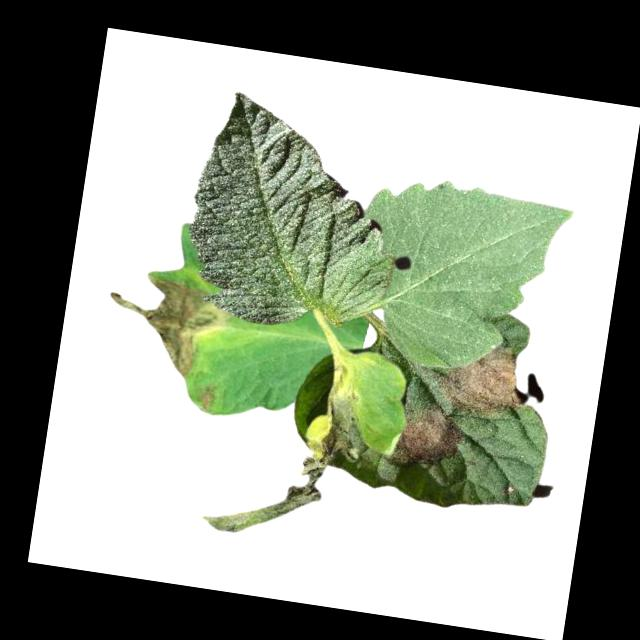Late_blight: (198, 355, 376, 550), (99, 268, 227, 382), (432, 330, 535, 420), (385, 397, 473, 476), (192, 380, 220, 414)
healthy: (176, 86, 414, 341)
